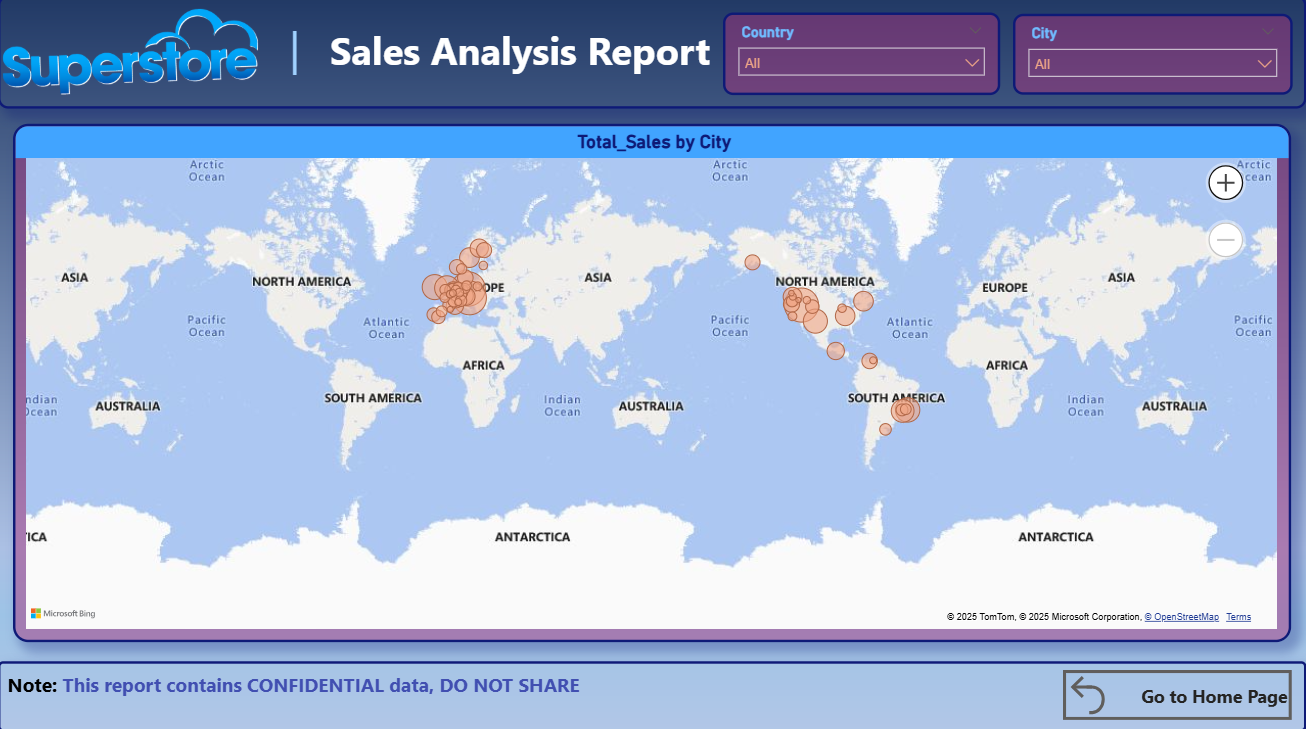

Layout of this report page (visuals, bound fields, positions):
{"tool":"powerbi","page":{"name":"Sales - Geo Maps","canvas":[1280,720],"ordinal":4},"visuals":[{"type":"textbox","box":[0,0,1280.3,111.3],"z":0},{"type":"image","box":[0,0,259.2,111.3],"z":1000},{"type":"textbox","box":[272.7,17.1,436.6,94.2],"z":2000},{"type":"textbox","box":[0,651.8,1280.3,68.5],"z":3000},{"type":"slicer","fields":{"Values":["Customers.City"]},"box":[992.9,18.3,273.9,79.5],"z":4000},{"type":"actionButton","box":[1041.9,660.3,223.8,48.9],"z":5000},{"type":"slicer","fields":{"Values":["Customers.Country"]},"box":[709.2,17.1,271.5,80.7],"z":6000},{"type":"map","fields":{"Category":["Customers.City"],"Size":["Sum(Order_Details.Total_Sales)"]},"box":[15,126.2,1250,507.5],"z":7000}]}

Visuals, with their boxes in screenshot pixels (x1, y1, x2, y2), scaled from the page's 1280x720 canvas onto the 1306x729 screenshot:
textbox: <region>0, 0, 1305, 113</region>
image: <region>0, 0, 264, 113</region>
textbox: <region>278, 17, 724, 113</region>
textbox: <region>0, 660, 1305, 728</region>
slicer - Customers.City: <region>1013, 19, 1293, 99</region>
actionButton: <region>1063, 669, 1291, 718</region>
slicer - Customers.Country: <region>724, 17, 1001, 99</region>
map - Customers.City x Sum(Order_Details.Total_Sales): <region>15, 128, 1291, 642</region>
